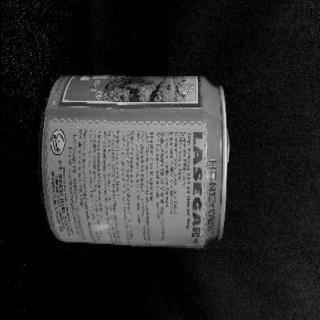alumunium_can: (38, 75, 228, 249)
